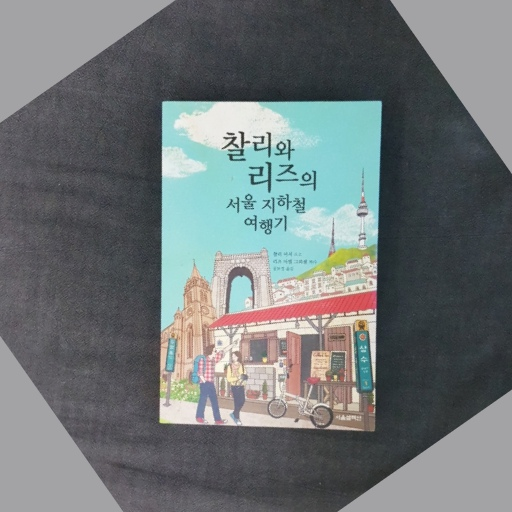Paper_0: (151, 93, 388, 436)
